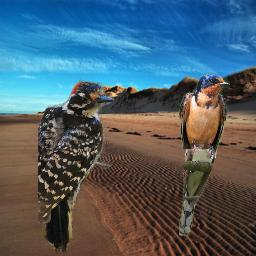Cuckoo: (179, 126, 224, 236)
Swallow: (179, 73, 230, 160)
Woodpecker: (38, 79, 114, 256)
